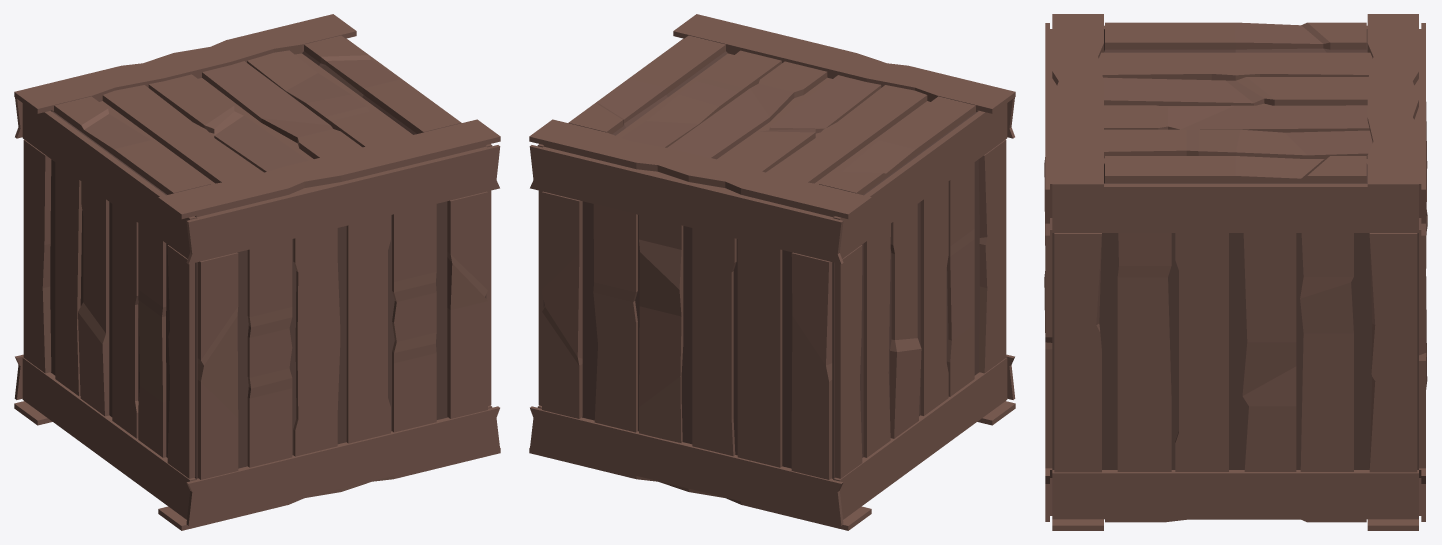
The model's file is Dungeon_Crate.glb.
3 renders of one model, left to right at view 1: azimuth 30°, elevation 25°; view 2: azimuth 150°, elevation 25°; view 3: azimuth 270°, elevation 25°, orthographic. The views are drawn at different scales.
Visible parts, largest first — view 1: Crate; view 2: Crate; view 3: Crate.
Part boxes in pixels (<box>): Crate: <box>14,14,500,530</box>; Crate: <box>529,14,1015,530</box>; Crate: <box>1044,14,1427,530</box>.
Size of the model in its own units: 1.38 by 1.31 by 1.31.
